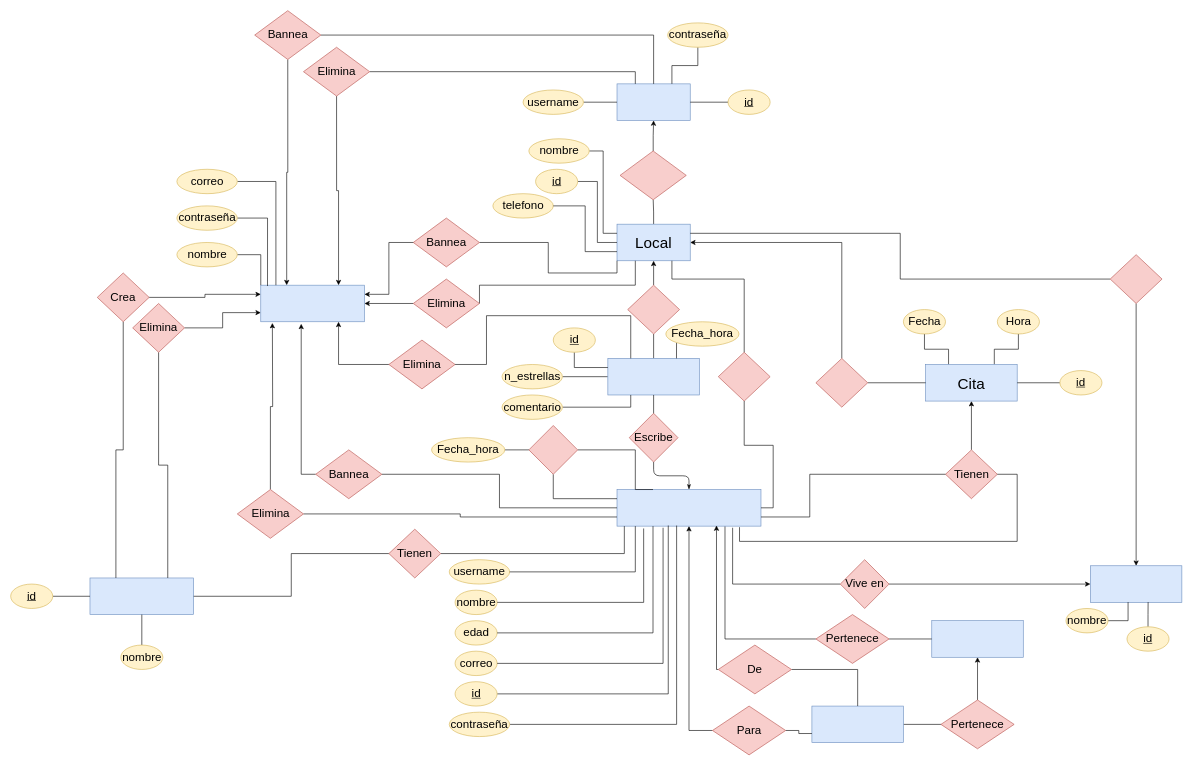
The diagram is 1193 pixels wide and 766 high, and some of its shapes have lost their labels. Each missing label, with the centre of its shape:
Administra: [652,175]
Administrador: [312,303]
Chat: [977,638]
Comuna: [1136,583]
En: [841,382]
Gustos: [141,596]
Match: [553,449]
Mensaje: [857,724]
Queda en: [1136,278]
Recibe: [653,309]
Reporta: [744,376]
Reseña: [653,376]
Usuario Local: [653,101]
Usuario Match: [688,507]
